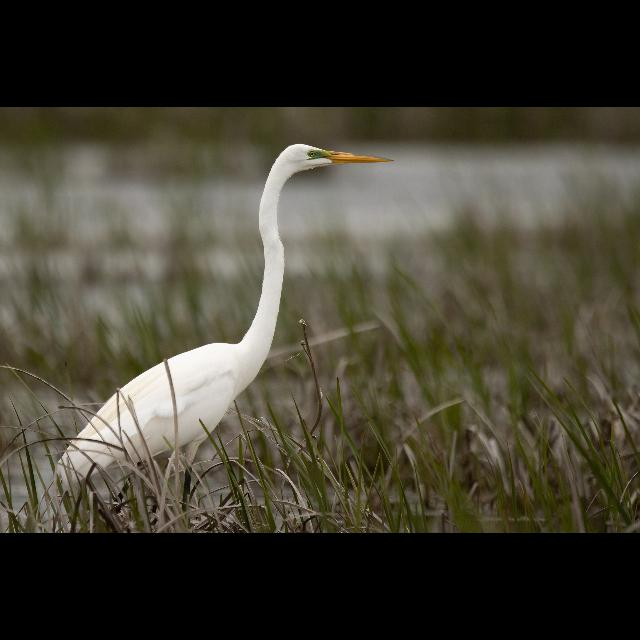egret: (59, 134, 400, 504)
